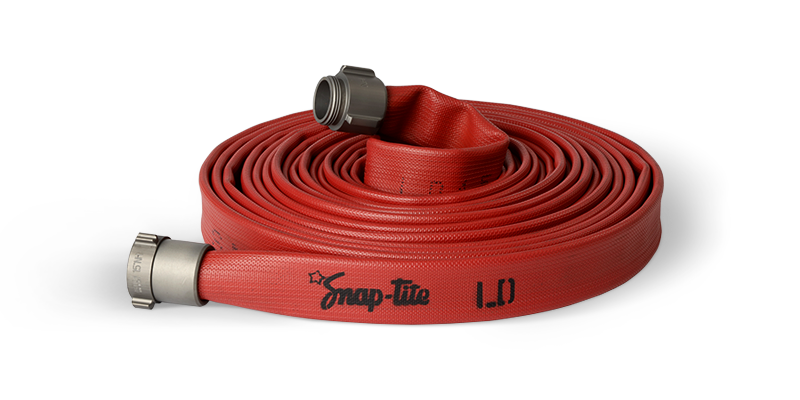Nonrec_Tangler: (66, 48, 709, 320)
